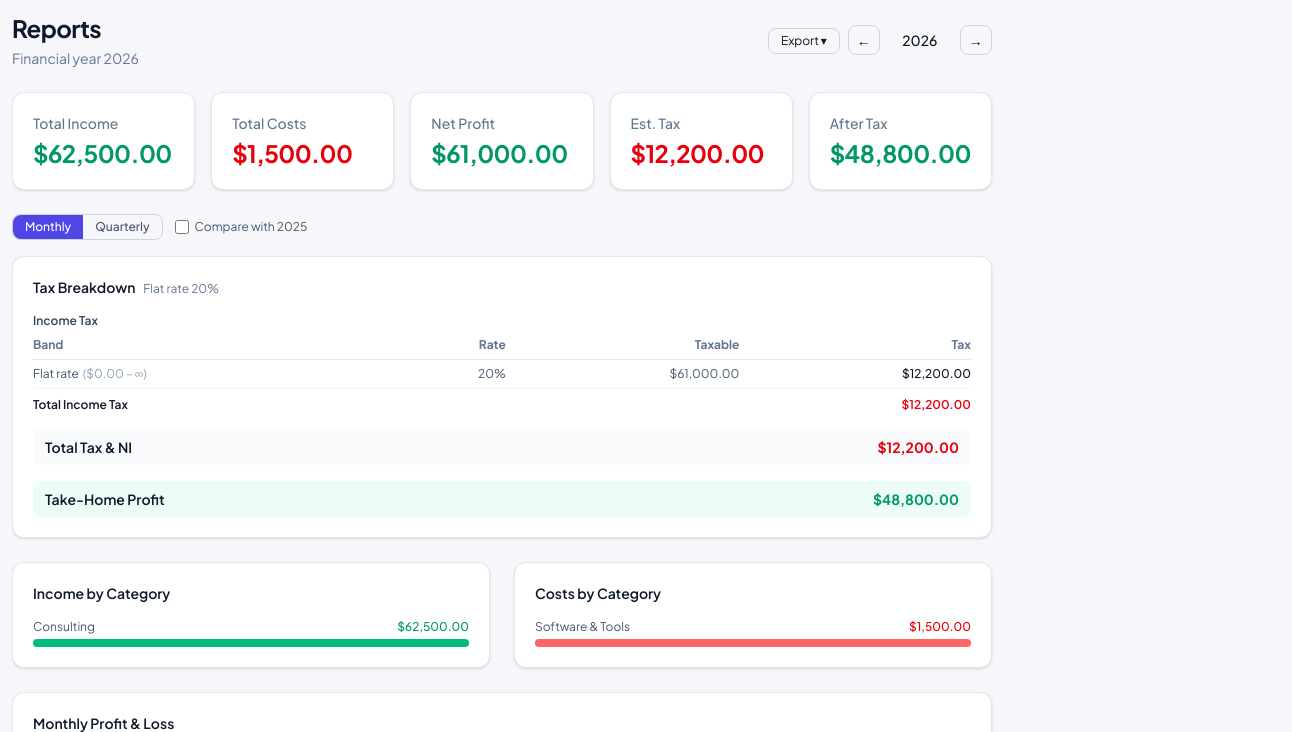
Test case: ReportsPage › year navigation arrows change displayed year
// Click left arrow
Click the button "←". click: (864, 40)
box: x1=848 y1=25 x2=880 y2=55
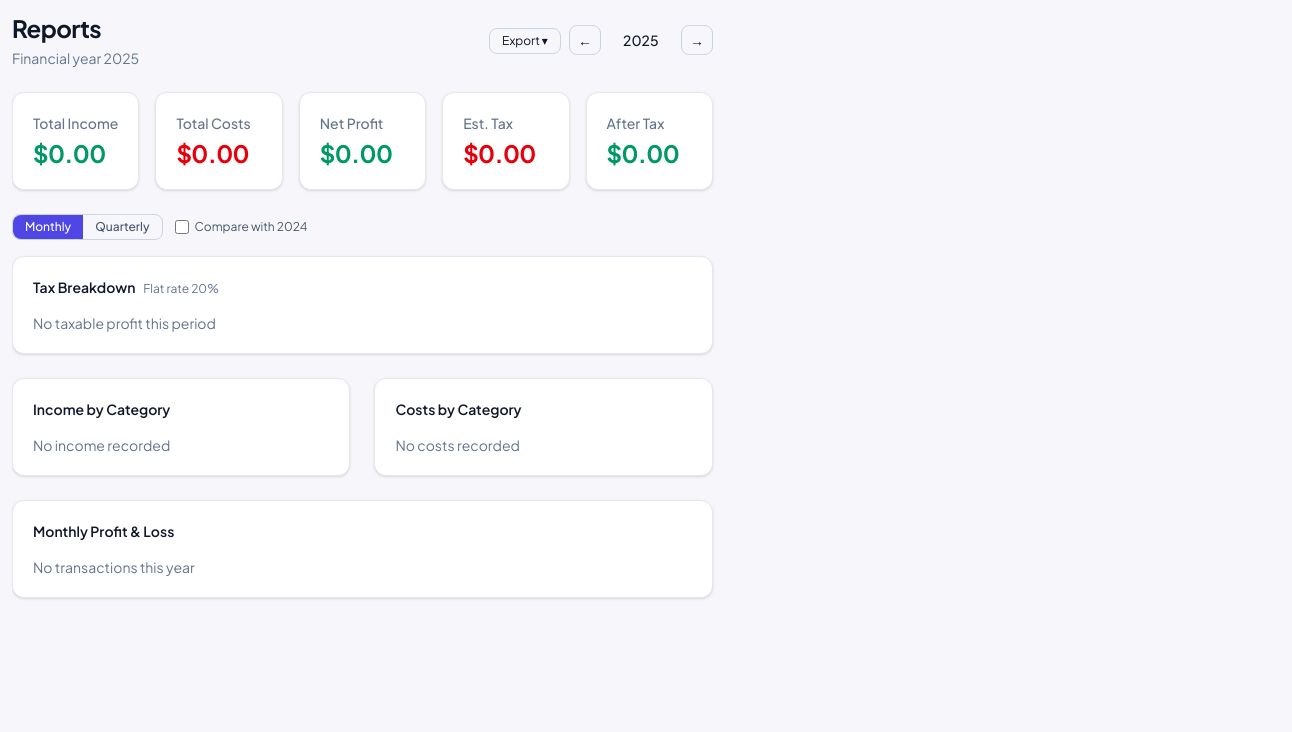
Check: the text "2025" is shown, box x1=623 y1=31 x2=659 y2=49
